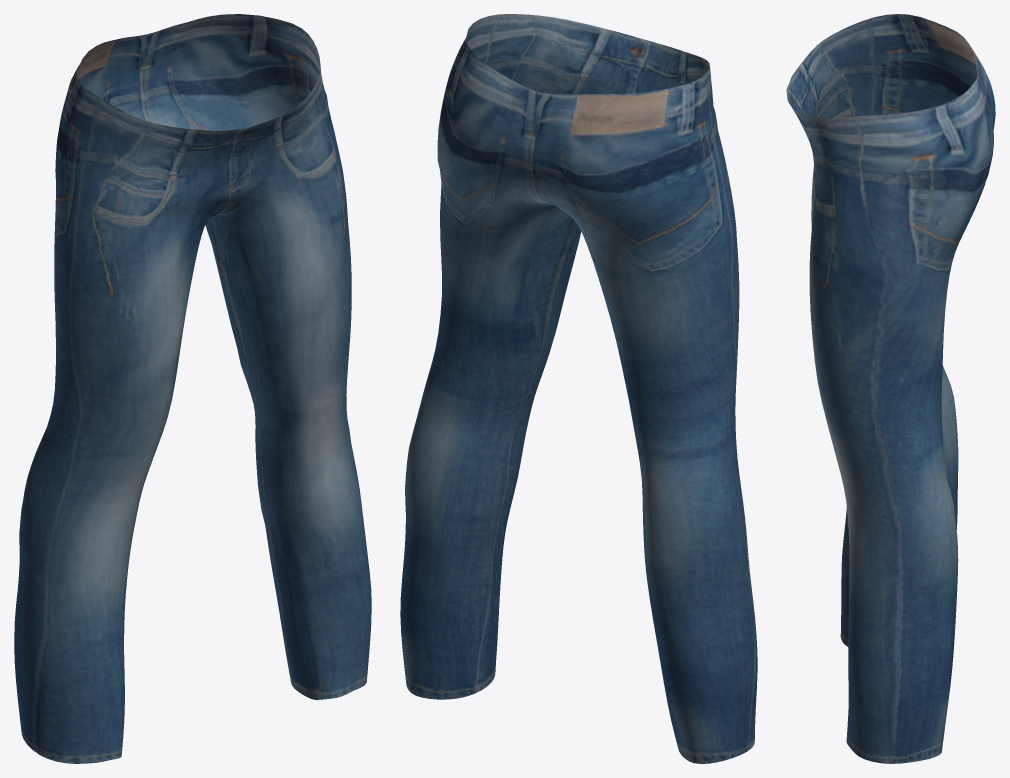
The model's file is ONFIT_Pants_v1.glb.
3 renders of one model, left to right at view 1: azimuth 30°, elevation 25°; view 2: azimuth 150°, elevation 25°; view 3: azimuth 270°, elevation 25°, orthographic. The views are drawn at different scales.
Visible parts, largest first — view 1: ONFIT_Pants; view 2: ONFIT_Pants; view 3: ONFIT_Pants.
Boxes of the visible parts, x1,y1,x2,y2 form: ONFIT_Pants: (14,14,371,763); ONFIT_Pants: (400,14,757,763); ONFIT_Pants: (786,14,995,763).
Bounding box in the file's own units: 0.4695 × 0.8892 × 0.2667.
Materials: 1 (1 with a texture image).
